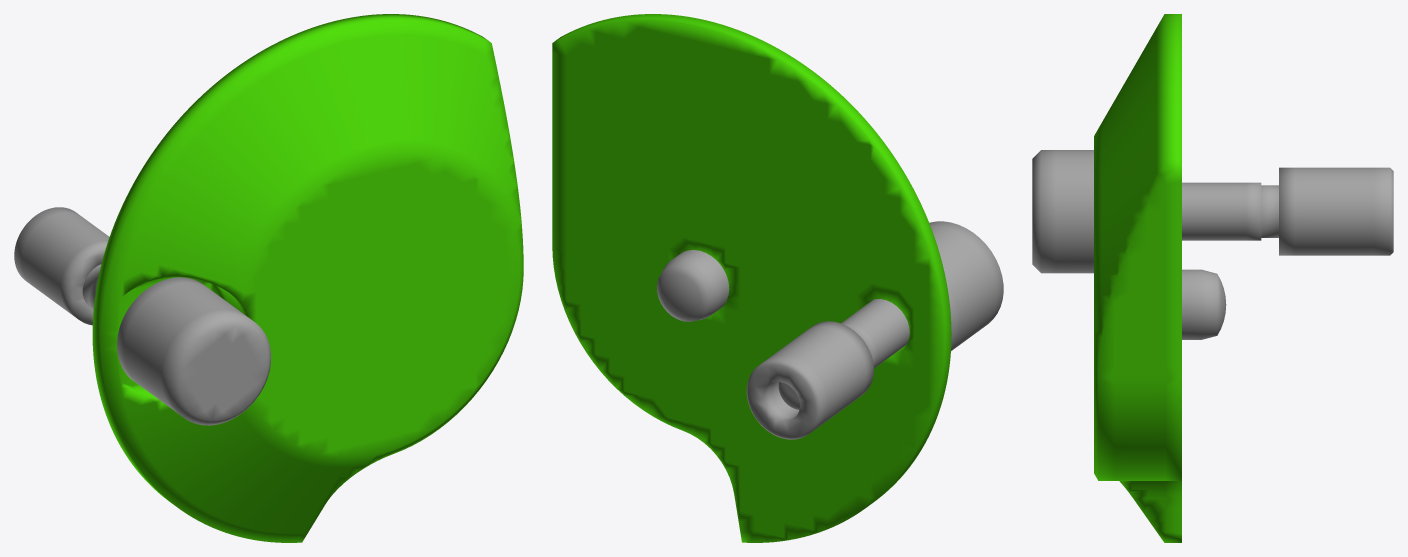
Rendered from bennett_right_deco.obj.
3 views of the same model, side by side, from view 1: azimuth 30°, elevation 25°; view 2: azimuth 150°, elevation 25°; view 3: azimuth 270°, elevation 25° (orthographic). The views are drawn at different scales.
Bounding box in the file's own units: 26.5 × 32.75 × 20.5.
